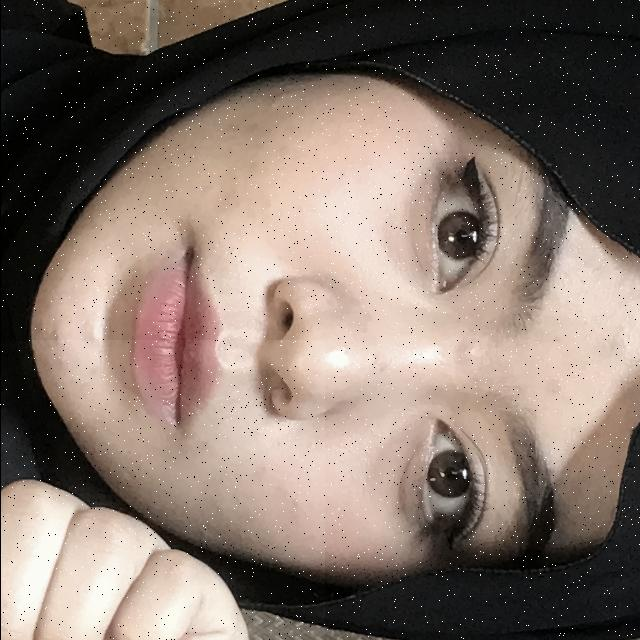sedih: (0, 340, 324, 640)
